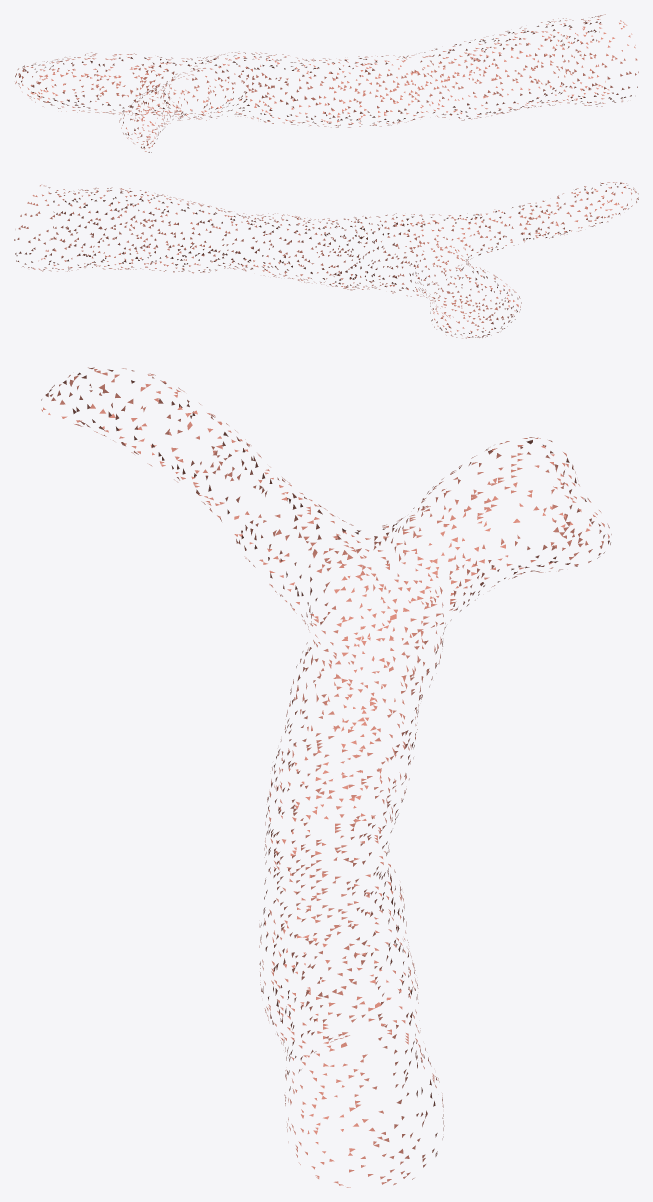
Rendered from morph_002.glb.
The picture shows the model from 3 angles, top to bottom: view 1: azimuth 30°, elevation 25°; view 2: azimuth 150°, elevation 25°; view 3: azimuth 270°, elevation 25°; orthographic projection. The views are drawn at different scales.
Size of the model in its own units: 135 by 38.79 by 63.
